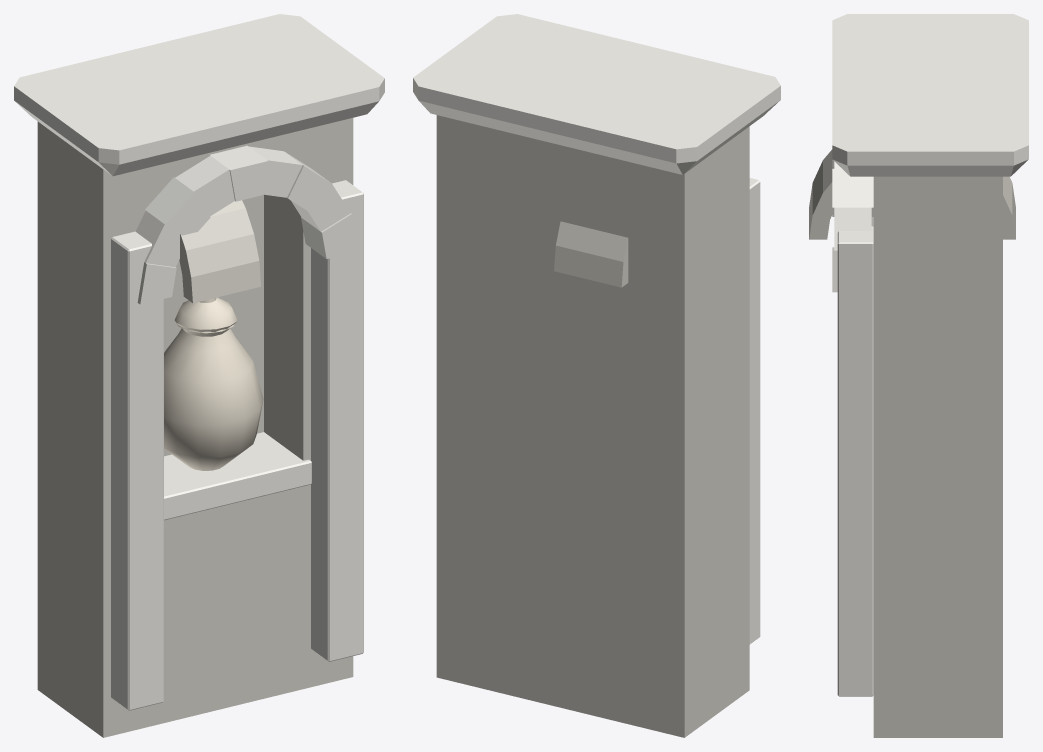
Rendered from roman-bathhouse-and-palaestra-niche-with-urn-76d5fdcb__37892.glb.
3 renders of one model, left to right at view 1: azimuth 30°, elevation 25°; view 2: azimuth 150°, elevation 25°; view 3: azimuth 270°, elevation 25°, orthographic.
Visible parts, largest first — view 1: niche-with-urn; view 2: niche-with-urn; view 3: niche-with-urn.
Part boxes in pixels (x1,y1,x2,y2): niche-with-urn: (14, 14, 384, 737); niche-with-urn: (413, 14, 780, 737); niche-with-urn: (809, 14, 1028, 737).
Bounding box in the file's own units: 1.26 × 2.54 × 0.85.
